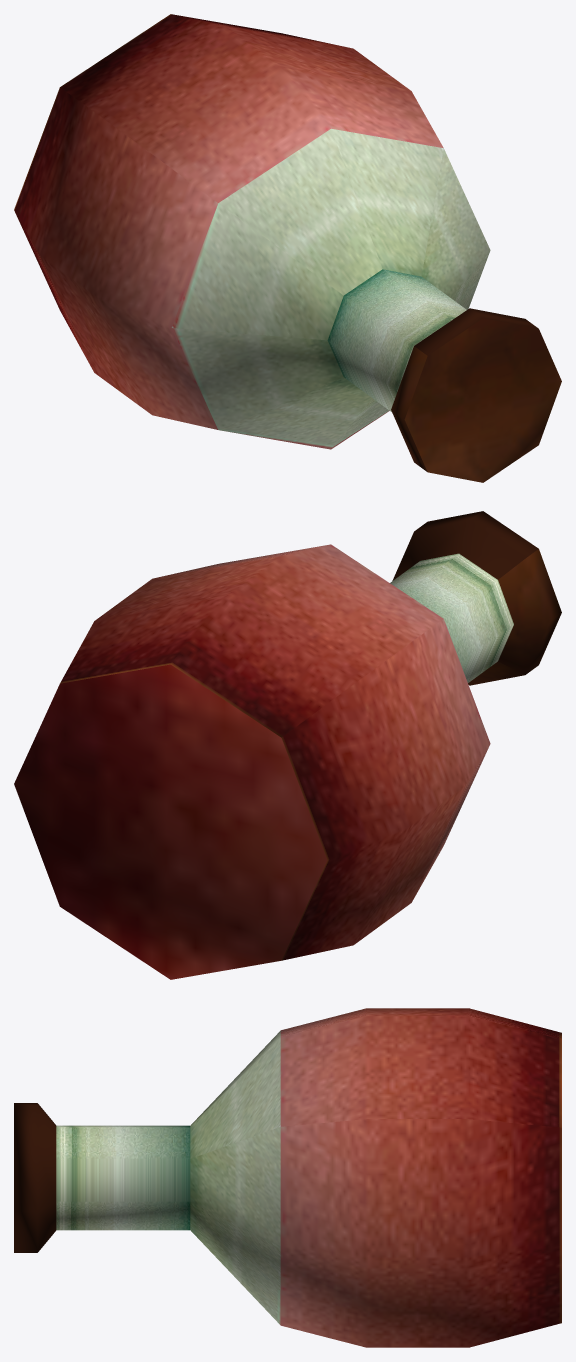
File: ItFo_Wine.fbx
3 renders of one model, top to bottom at view 1: azimuth 30°, elevation 25°; view 2: azimuth 150°, elevation 25°; view 3: azimuth 270°, elevation 25°, orthographic. The views are drawn at different scales.
Visible parts, largest first — view 1: 3DSMesh_0; view 2: 3DSMesh_0; view 3: 3DSMesh_0.
Part boxes in pixels (x1=…): 3DSMesh_0: x1=14, y1=14, x2=561, y2=482; 3DSMesh_0: x1=14, y1=511, x2=561, y2=979; 3DSMesh_0: x1=14, y1=1008, x2=561, y2=1347.
Bounding box in the file's own units: 19.11 × 18.38 × 28.22.
